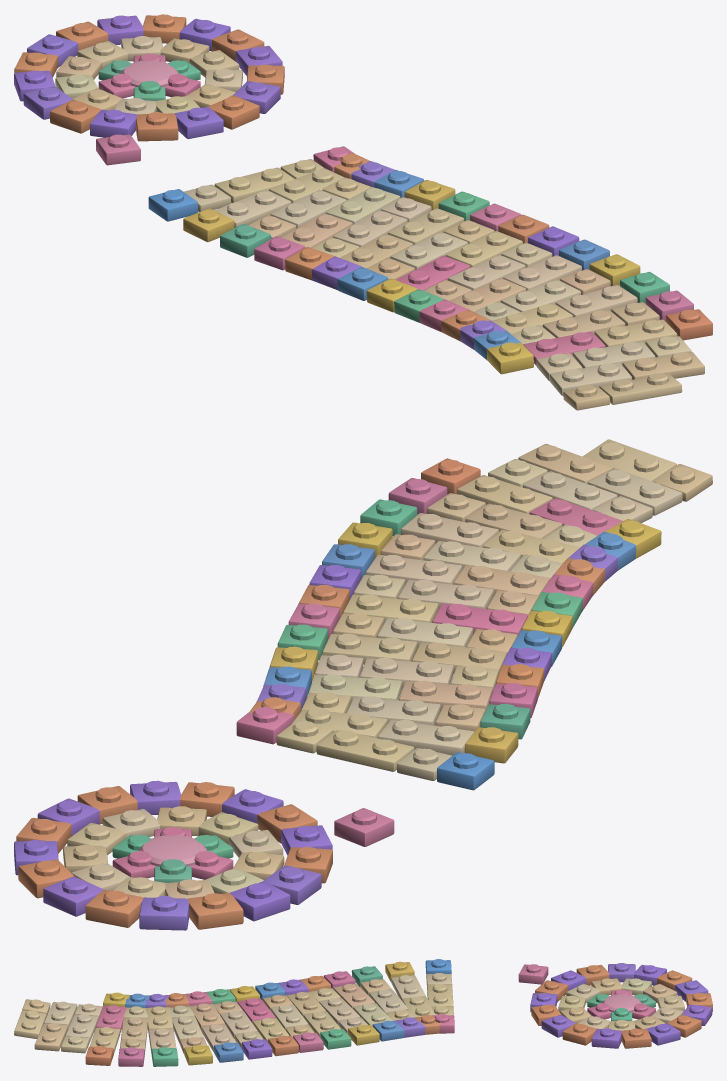
File: W1_BrickPath.fbx
3 renders of one model, top to bottom at view 1: azimuth 30°, elevation 25°; view 2: azimuth 150°, elevation 25°; view 3: azimuth 270°, elevation 25°, orthographic. The views are drawn at different scales.
Visible parts, largest first — view 1: W1_BrickPath; view 2: W1_BrickPath; view 3: W1_BrickPath.
Boxes of the visible parts, x1,y1,x2,y2 form: W1_BrickPath: [14, 14, 712, 410]; W1_BrickPath: [14, 439, 712, 930]; W1_BrickPath: [14, 959, 712, 1066].
Size of the model in its own units: 1.08 by 0.0789 by 3.22.
